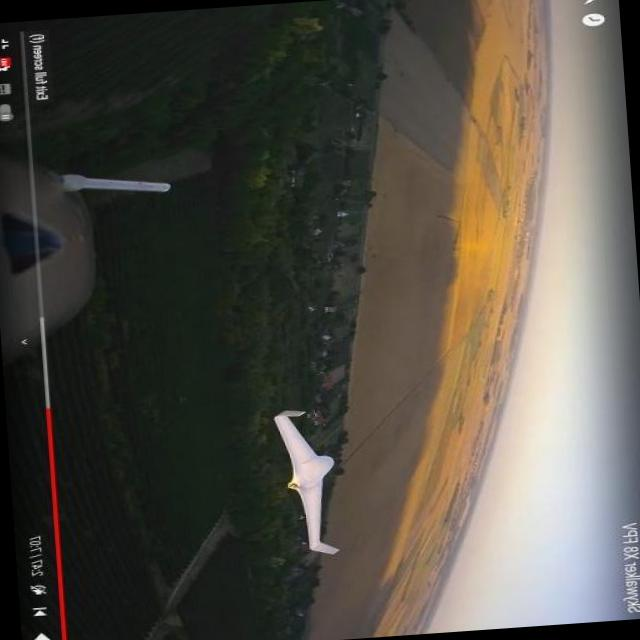UAV: (247, 376, 363, 551)
